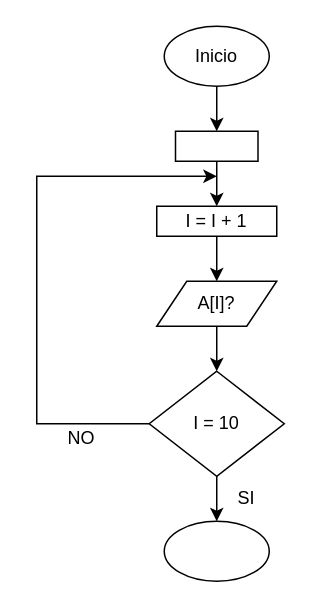
This 318x608 diagram has some shape labels left out. Here are the shapes that lost their labels. From the top down, the centre of each, then its label:
At point (216, 145): "I = 0".
At point (216, 550): "FIN".
